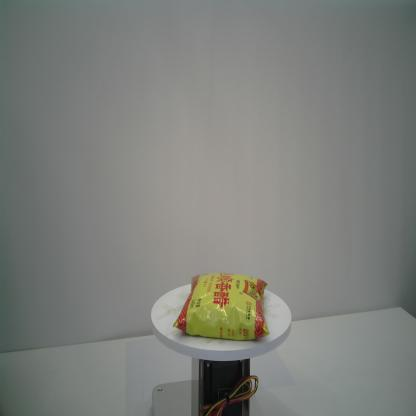Seasoner: (172, 272, 271, 342)
